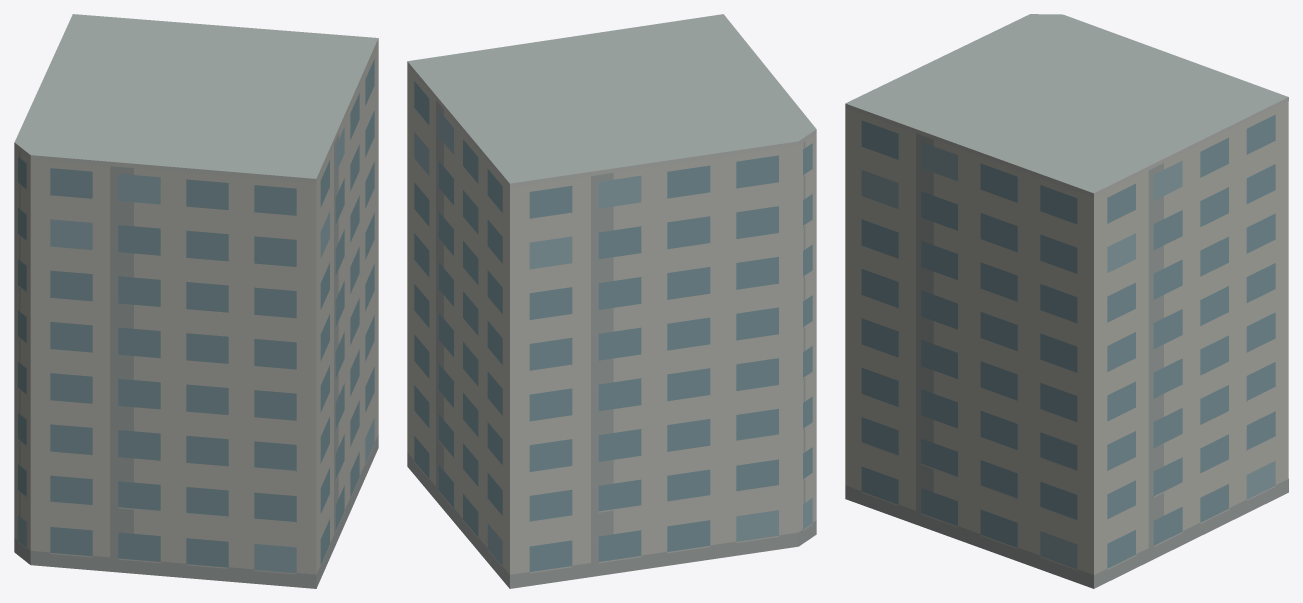
The model's file is survey-upis-32618833.glb.
3 views of the same model, side by side, from view 1: azimuth 30°, elevation 25°; view 2: azimuth 150°, elevation 25°; view 3: azimuth 270°, elevation 25° (orthographic). The views are drawn at different scales.
Parts seen in each view (by area): view 1: survey-upis-32618833.tmp; view 2: survey-upis-32618833.tmp; view 3: survey-upis-32618833.tmp.
Part boxes in pixels (bbox=[...]): survey-upis-32618833.tmp: bbox=[14, 14, 378, 588]; survey-upis-32618833.tmp: bbox=[407, 14, 816, 588]; survey-upis-32618833.tmp: bbox=[845, 14, 1288, 588].
Size of the model in its own units: 21.89 by 22.5 by 22.87.
